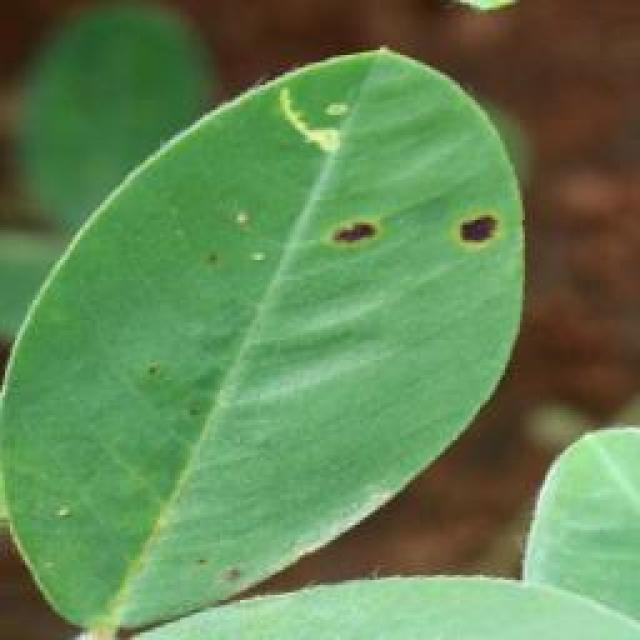Sigatoka: (306, 170, 514, 283)
